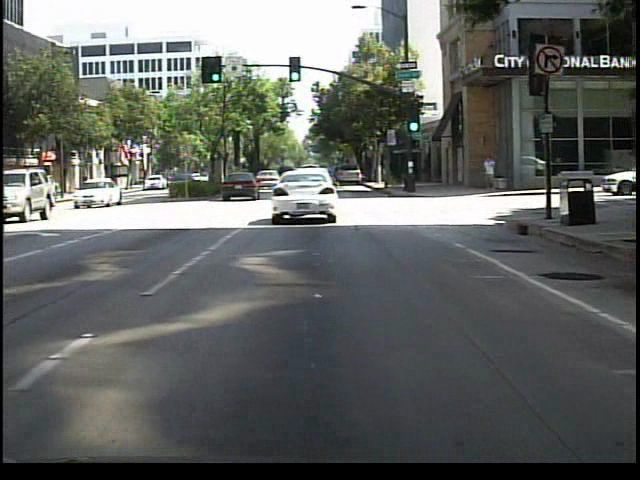person: (480, 153, 499, 193)
